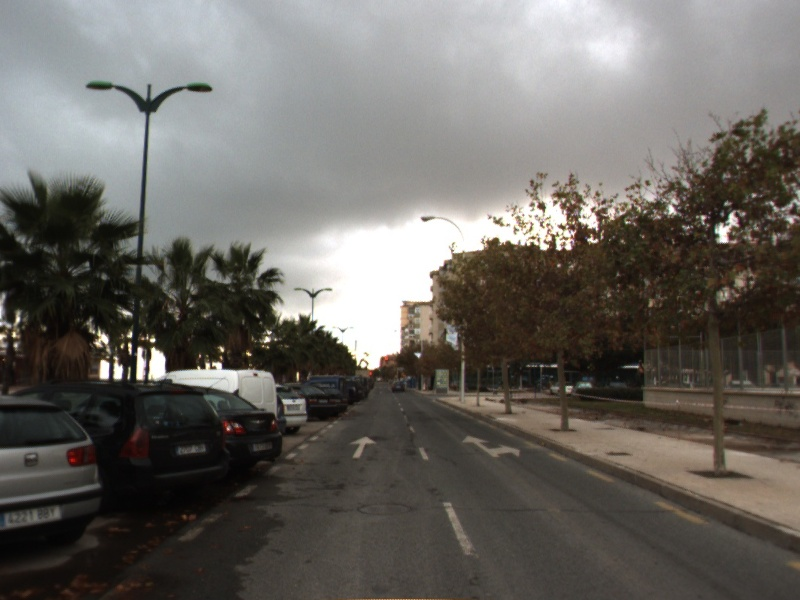STRAIGHT: (348, 435, 379, 459)
STRAIGHT_RIGHT: (461, 433, 522, 460)
